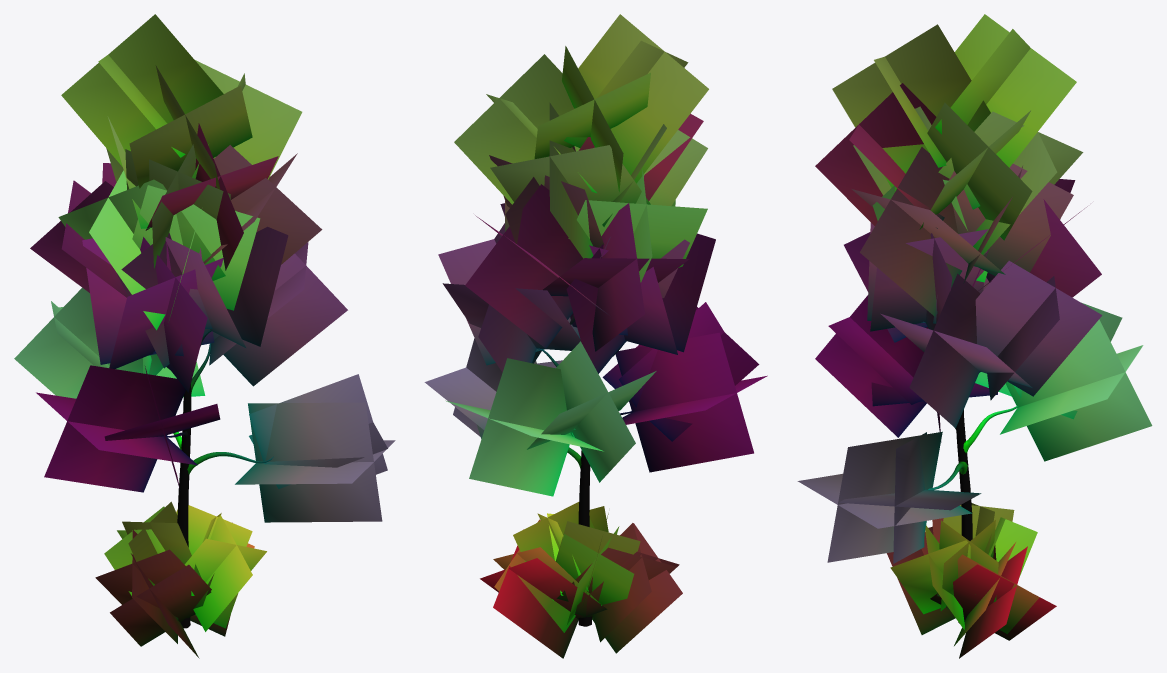
File: URP_P12_Tree_2_LOD_1.fbx
3 renders of one model, left to right at view 1: azimuth 30°, elevation 25°; view 2: azimuth 150°, elevation 25°; view 3: azimuth 270°, elevation 25°, orthographic.
Parts seen in each view (by area): view 1: Tree_2_LOD_1; view 2: Tree_2_LOD_1; view 3: Tree_2_LOD_1.
Boxes of the visible parts, x1,y1,x2,y2 form: Tree_2_LOD_1: (14, 14, 395, 658); Tree_2_LOD_1: (424, 14, 767, 658); Tree_2_LOD_1: (797, 14, 1152, 658).
Bounding box in the file's own units: 198 × 361 × 190.
